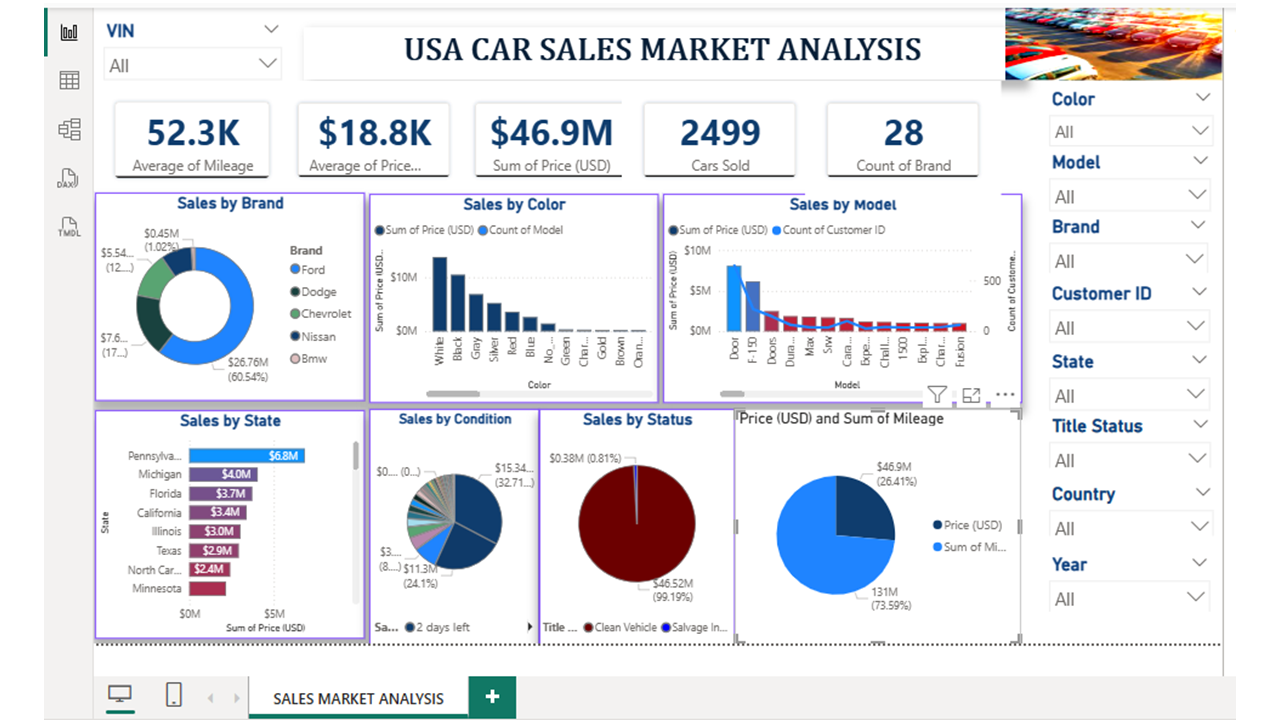

The page's visual inventory and layout, read from the dashboard file:
{"tool":"powerbi","page":{"name":"SALES MARKET ANALYSIS","canvas":[1280,720],"ordinal":0},"visuals":[{"type":"textbox","box":[238.5,21.8,813,60.5],"z":0},{"type":"image","box":[1034.6,0,245.9,82],"z":1000},{"type":"cardVisual","fields":{"Data":["Avg(Cleaned (2).Mileage)"]},"box":[0,82.3,223.4,134.4],"z":2000},{"type":"cardVisual","fields":{"Data":["Avg(Cleaned (2).Price)"]},"box":[206.3,82,222.4,134.6],"z":3000},{"type":"cardVisual","fields":{"Data":["Sum(Cleaned .Price (USD))"]},"box":[406.8,82,222.4,134.6],"z":4000},{"type":"cardVisual","fields":{"Data":["CountNonNull(Cleaned .Customer ID)"]},"box":[598.5,82,222.4,134.6],"z":5000},{"type":"slicer","fields":{"Values":["Cleaned .Color"]},"box":[1074.1,86.3,206.3,83.4],"z":6000},{"type":"image","box":[1034.1,0,245.9,82],"z":7000},{"type":"slicer","fields":{"Values":["Cleaned .Model"]},"box":[1074.1,158,203.4,74.6],"z":8000},{"type":"slicer","fields":{"Values":["Cleaned .Brand"]},"box":[1074.1,231.2,200.5,68.8],"z":9000},{"type":"slicer","fields":{"Values":["Cleaned .Customer ID"]},"box":[1074.1,307.3,202,76.1],"z":10000},{"type":"slicer","fields":{"Values":["Cleaned .Title Status"]},"box":[1074.1,456.6,203.4,64.4],"z":11000},{"type":"slicer","fields":{"Values":["Cleaned .State"]},"box":[1074.1,383.4,202,71.7],"z":12000},{"type":"slicer","fields":{"Values":["Cleaned .Year"]},"box":[1074.1,613.2,202,70.2],"z":13000},{"type":"slicer","fields":{"Values":["Cleaned .VIN"]},"box":[1.7,10.1,221.7,82.3],"z":14000},{"type":"donutChart","title":"Sales by Brand","fields":{"Y":["Sum(Cleaned .Price (USD))"],"Category":["Cleaned .Brand"]},"box":[1.5,209.3,305.9,235.6],"z":15000},{"type":"lineStackedColumnComboChart","title":"Sales by Color","fields":{"Category":["Cleaned .Color"],"Y":["Sum(Cleaned .Price (USD))","Count(Cleaned .Model)"]},"box":[312.4,210,327.6,236.9],"z":16000},{"type":"lineStackedColumnComboChart","title":"Sales by Model","fields":{"Category":["Cleaned .Model"],"Y":["Sum(Cleaned .Price (USD))"],"Y2":["CountNonNull(Cleaned .Customer ID)"]},"box":[645,210,406.5,236.9],"z":17000},{"type":"clusteredBarChart","title":"Sales  by State","fields":{"Category":["Cleaned .State"],"Y":["Sum(Cleaned .Price (USD))"]},"box":[1.5,455.1,305.9,259],"z":18000},{"type":"pieChart","title":"Sales by Condition","fields":{"Y":["Sum(Cleaned .Price (USD))"],"Category":["Cleaned .Condition"]},"box":[312.4,453.5,193.2,267.1],"z":19000},{"type":"pieChart","title":"Sales by Status","fields":{"Y":["Sum(Cleaned .Price (USD))"],"Category":["Cleaned .Title Status"]},"box":[505.6,453.5,221.7,267.1],"z":20000},{"type":"pieChart","title":"Profitability View","fields":{"Y":["Sum(Cleaned .Price (USD))","Sum(Cleaned .Mileage)"]},"box":[727.3,453.5,324.2,267.1],"z":22000},{"type":"slicer","fields":{"Values":["Cleaned .Country"]},"box":[1074.1,534.1,206.3,64.4],"z":24000},{"type":"cardVisual","fields":{"Data":["Count(Cleaned .Brand)"]},"box":[828,89,206.5,119.7],"z":25000}]}

Visuals, with their boxes on the page's 1280x720 design canvas (x1, y1, x2, y2). These are canvas units, not pixel positions in the 1280x720 screenshot, which may show the page scaled, cropped or inside an application window:
textbox: BBox(238, 22, 1052, 82)
image: BBox(1035, 0, 1280, 82)
cardVisual - Avg(Cleaned (2).Mileage): BBox(0, 82, 223, 217)
cardVisual - Avg(Cleaned (2).Price): BBox(206, 82, 429, 217)
cardVisual - Sum(Cleaned .Price (USD)): BBox(407, 82, 629, 217)
cardVisual - CountNonNull(Cleaned .Customer ID): BBox(598, 82, 821, 217)
slicer - Cleaned .Color: BBox(1074, 86, 1280, 170)
image: BBox(1034, 0, 1280, 82)
slicer - Cleaned .Model: BBox(1074, 158, 1278, 233)
slicer - Cleaned .Brand: BBox(1074, 231, 1275, 300)
slicer - Cleaned .Customer ID: BBox(1074, 307, 1276, 383)
slicer - Cleaned .Title Status: BBox(1074, 457, 1278, 521)
slicer - Cleaned .State: BBox(1074, 383, 1276, 455)
slicer - Cleaned .Year: BBox(1074, 613, 1276, 683)
slicer - Cleaned .VIN: BBox(2, 10, 223, 92)
"Sales by Brand" donutChart: BBox(2, 209, 307, 445)
"Sales by Color" lineStackedColumnComboChart: BBox(312, 210, 640, 447)
"Sales by Model" lineStackedColumnComboChart: BBox(645, 210, 1052, 447)
"Sales  by State" clusteredBarChart: BBox(2, 455, 307, 714)
"Sales by Condition" pieChart: BBox(312, 454, 506, 721)
"Sales by Status" pieChart: BBox(506, 454, 727, 721)
"Profitability View" pieChart: BBox(727, 454, 1052, 721)
slicer - Cleaned .Country: BBox(1074, 534, 1280, 598)
cardVisual - Count(Cleaned .Brand): BBox(828, 89, 1034, 209)
